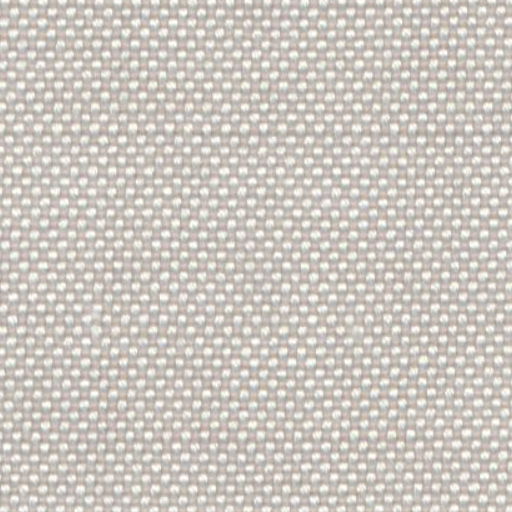TuoSha: (21, 100, 488, 155)
